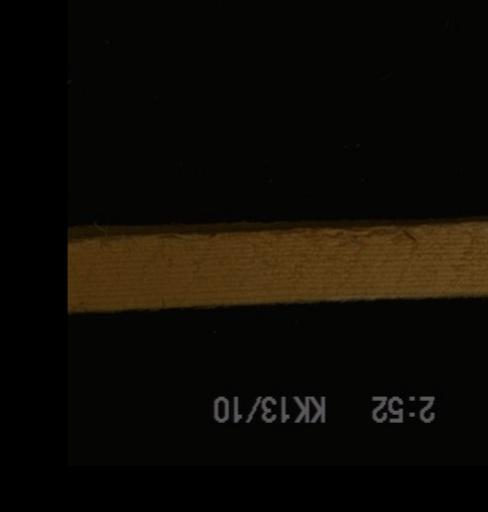wave: (66, 221, 310, 242)
